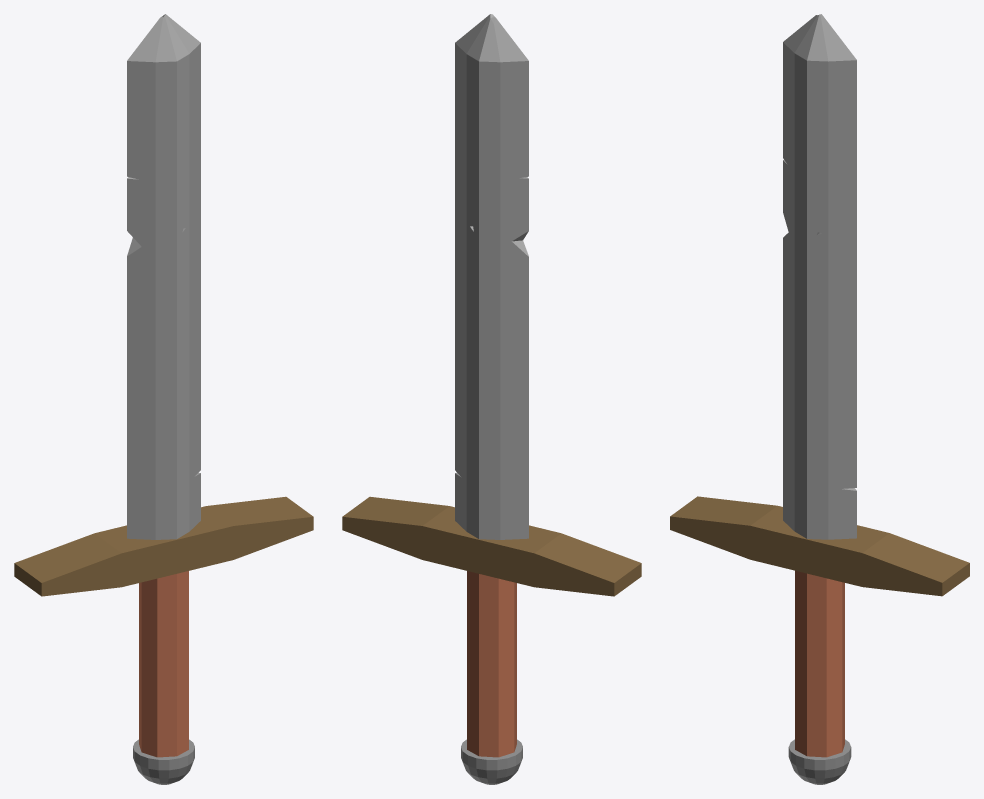
File: OldSword.fbx
3 views of the same model, side by side, from view 1: azimuth 30°, elevation 25°; view 2: azimuth 150°, elevation 25°; view 3: azimuth 330°, elevation 25° (orthographic).
Parts seen in each view (by area): view 1: Цилиндр; view 2: Цилиндр; view 3: Цилиндр.
Part boxes in pixels (<box>): Цилиндр: <box>14,14,313,784</box>; Цилиндр: <box>342,14,641,784</box>; Цилиндр: <box>670,14,969,784</box>.
Size of the model in its own units: 144 by 387 by 28.48.
